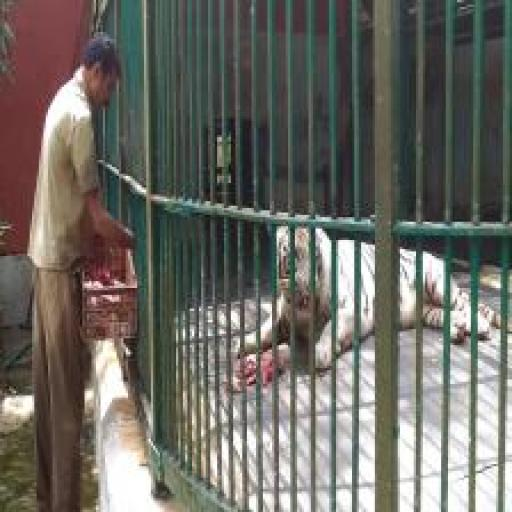Tiger: (231, 208, 512, 382)
